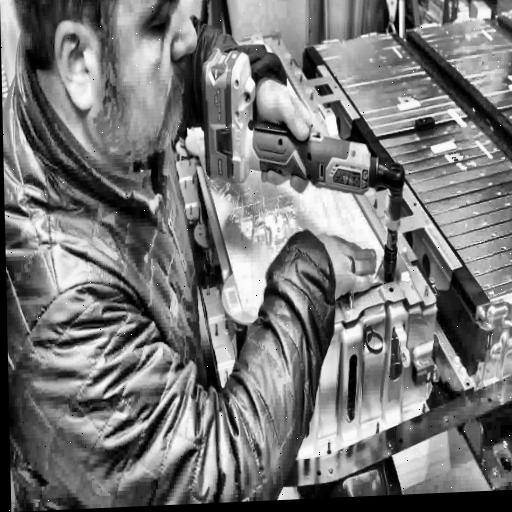battery_module: (379, 117, 512, 299), (312, 34, 468, 137), (414, 19, 512, 110)
